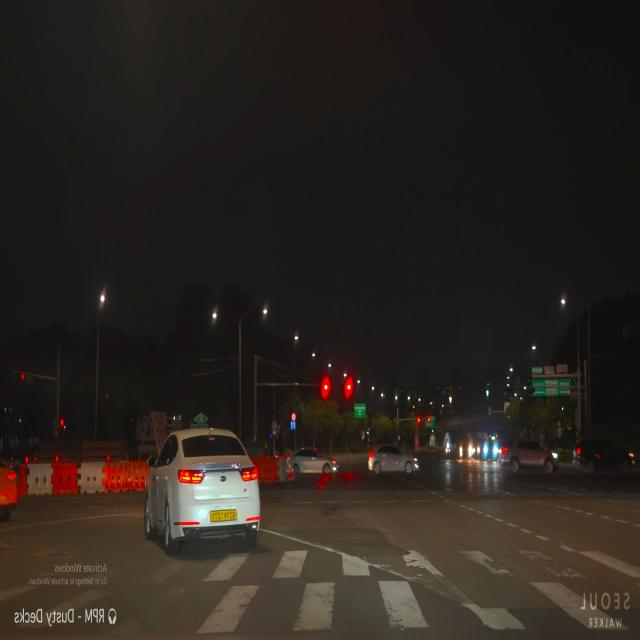headlights: (480, 441, 500, 463), (456, 443, 476, 462)
